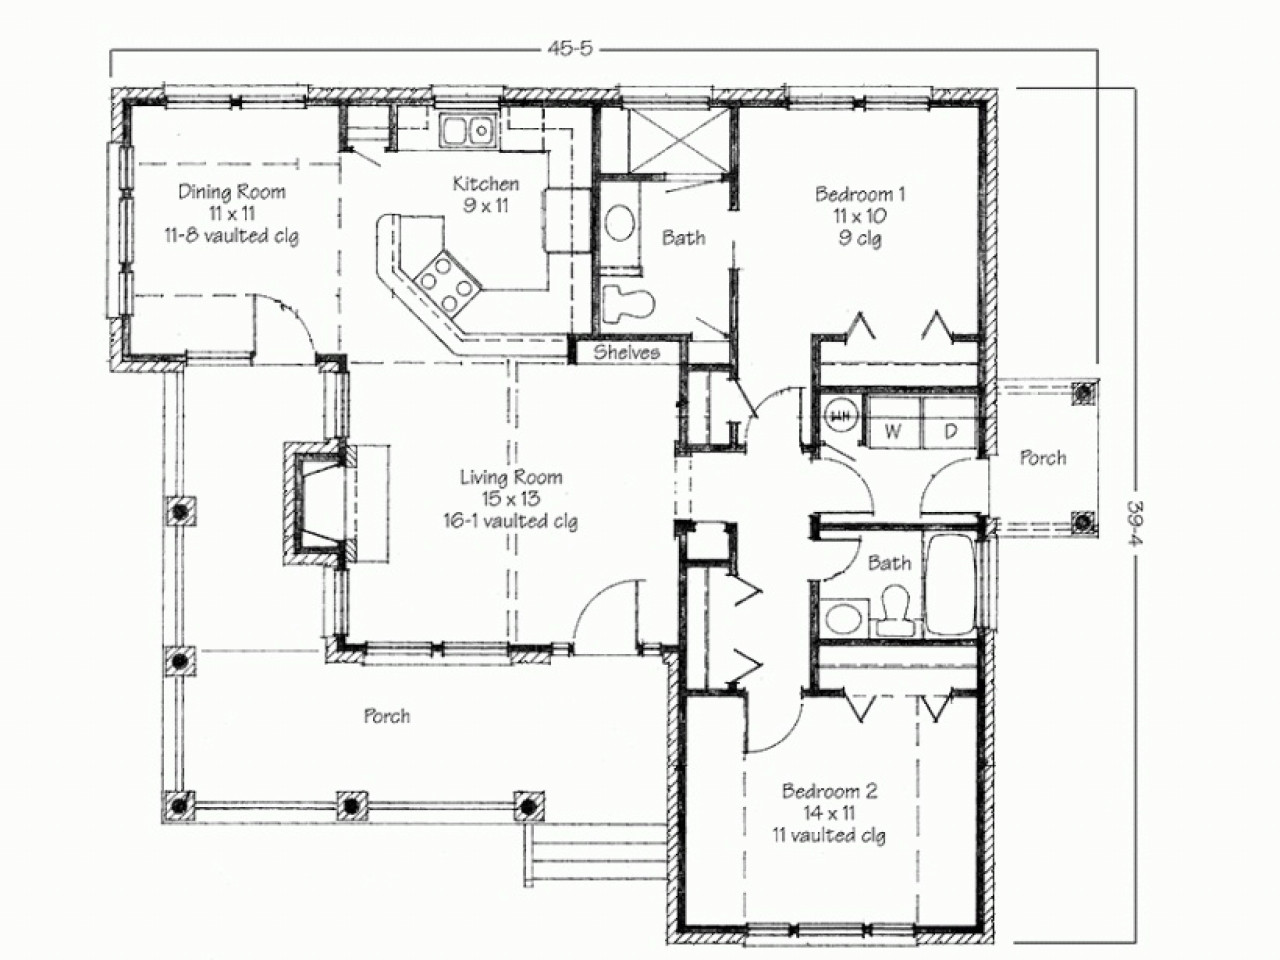door: (237, 283, 326, 350), (569, 569, 654, 635), (820, 459, 883, 520), (909, 460, 963, 520), (740, 709, 799, 760), (727, 629, 769, 683), (720, 569, 770, 605), (907, 305, 949, 346), (844, 303, 877, 349), (823, 535, 867, 569)
room: (333, 358, 689, 659), (681, 690, 994, 946), (344, 88, 601, 365), (727, 90, 1000, 339), (111, 89, 340, 360), (810, 333, 986, 516), (730, 360, 819, 688), (584, 179, 743, 338), (813, 513, 1000, 648), (596, 79, 739, 189), (813, 642, 989, 698), (684, 556, 743, 696), (677, 442, 741, 562), (679, 359, 747, 450)
window: (854, 85, 933, 118), (166, 82, 239, 113), (790, 83, 856, 109)
